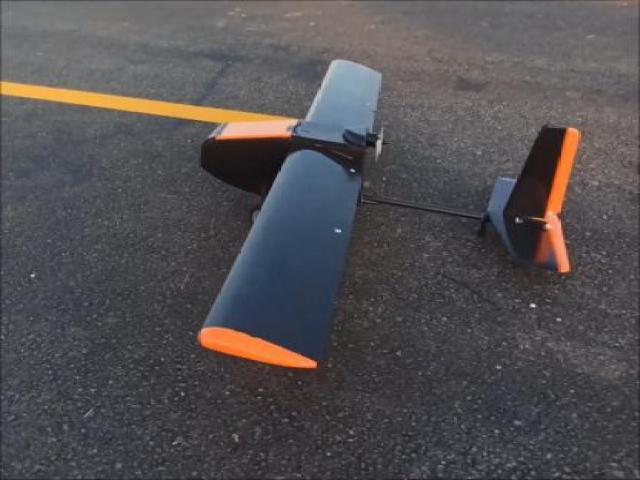uav: (178, 54, 594, 380)
